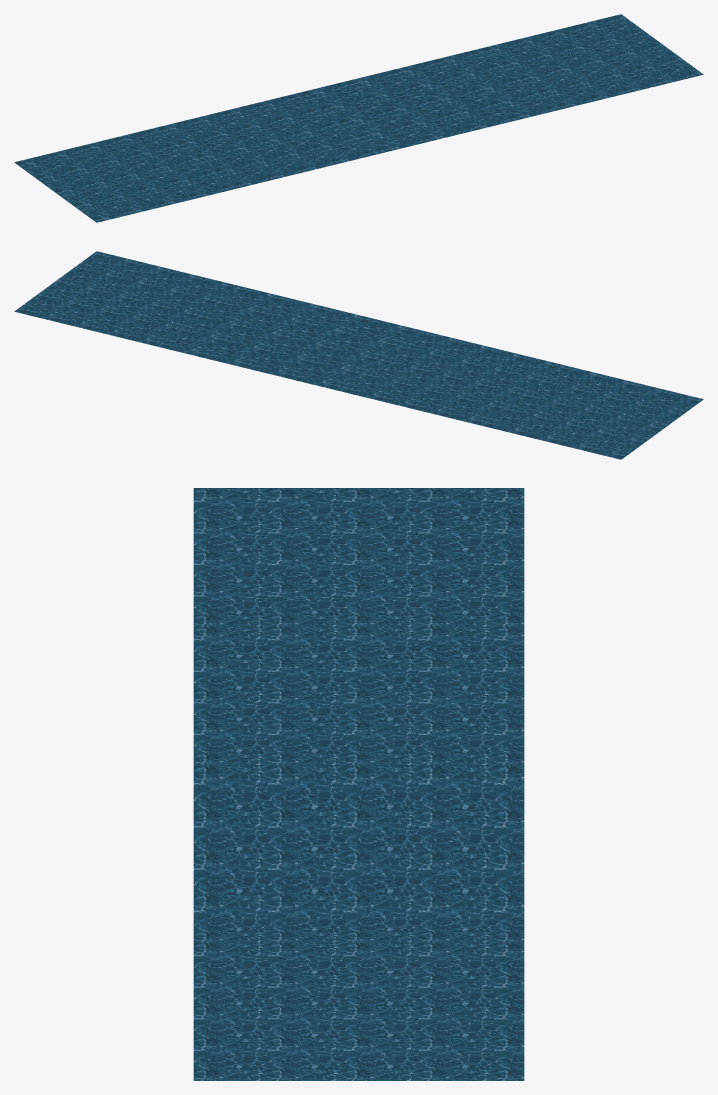
File: BIGMAP_DX_01.FBX
3 views of the same model, one above another, from view 1: azimuth 30°, elevation 25°; view 2: azimuth 150°, elevation 25°; view 3: azimuth 270°, elevation 25° (orthographic). The views are drawn at different scales.
Visible parts, largest first — view 1: Plane64, Plane10, Plane66, Plane65; view 2: Plane64, Plane10, Plane66, Plane65; view 3: Plane64, Plane10, Plane66, Plane65.
Part boxes in pixels (box(x1,y1,x2,y2)): Plane64: box(298, 48, 561, 153); Plane10: box(480, 14, 703, 109); Plane66: box(14, 127, 237, 222); Plane65: box(156, 93, 379, 188); Plane64: box(156, 285, 419, 390); Plane10: box(14, 251, 237, 346); Plane66: box(480, 364, 703, 459); Plane65: box(338, 330, 561, 425); Plane64: box(193, 765, 524, 942); Plane10: box(193, 942, 524, 1080); Plane66: box(193, 488, 524, 626); Plane65: box(193, 626, 524, 764).
Size of the model in its own units: 2659 by 1.78e-13 by 627.
